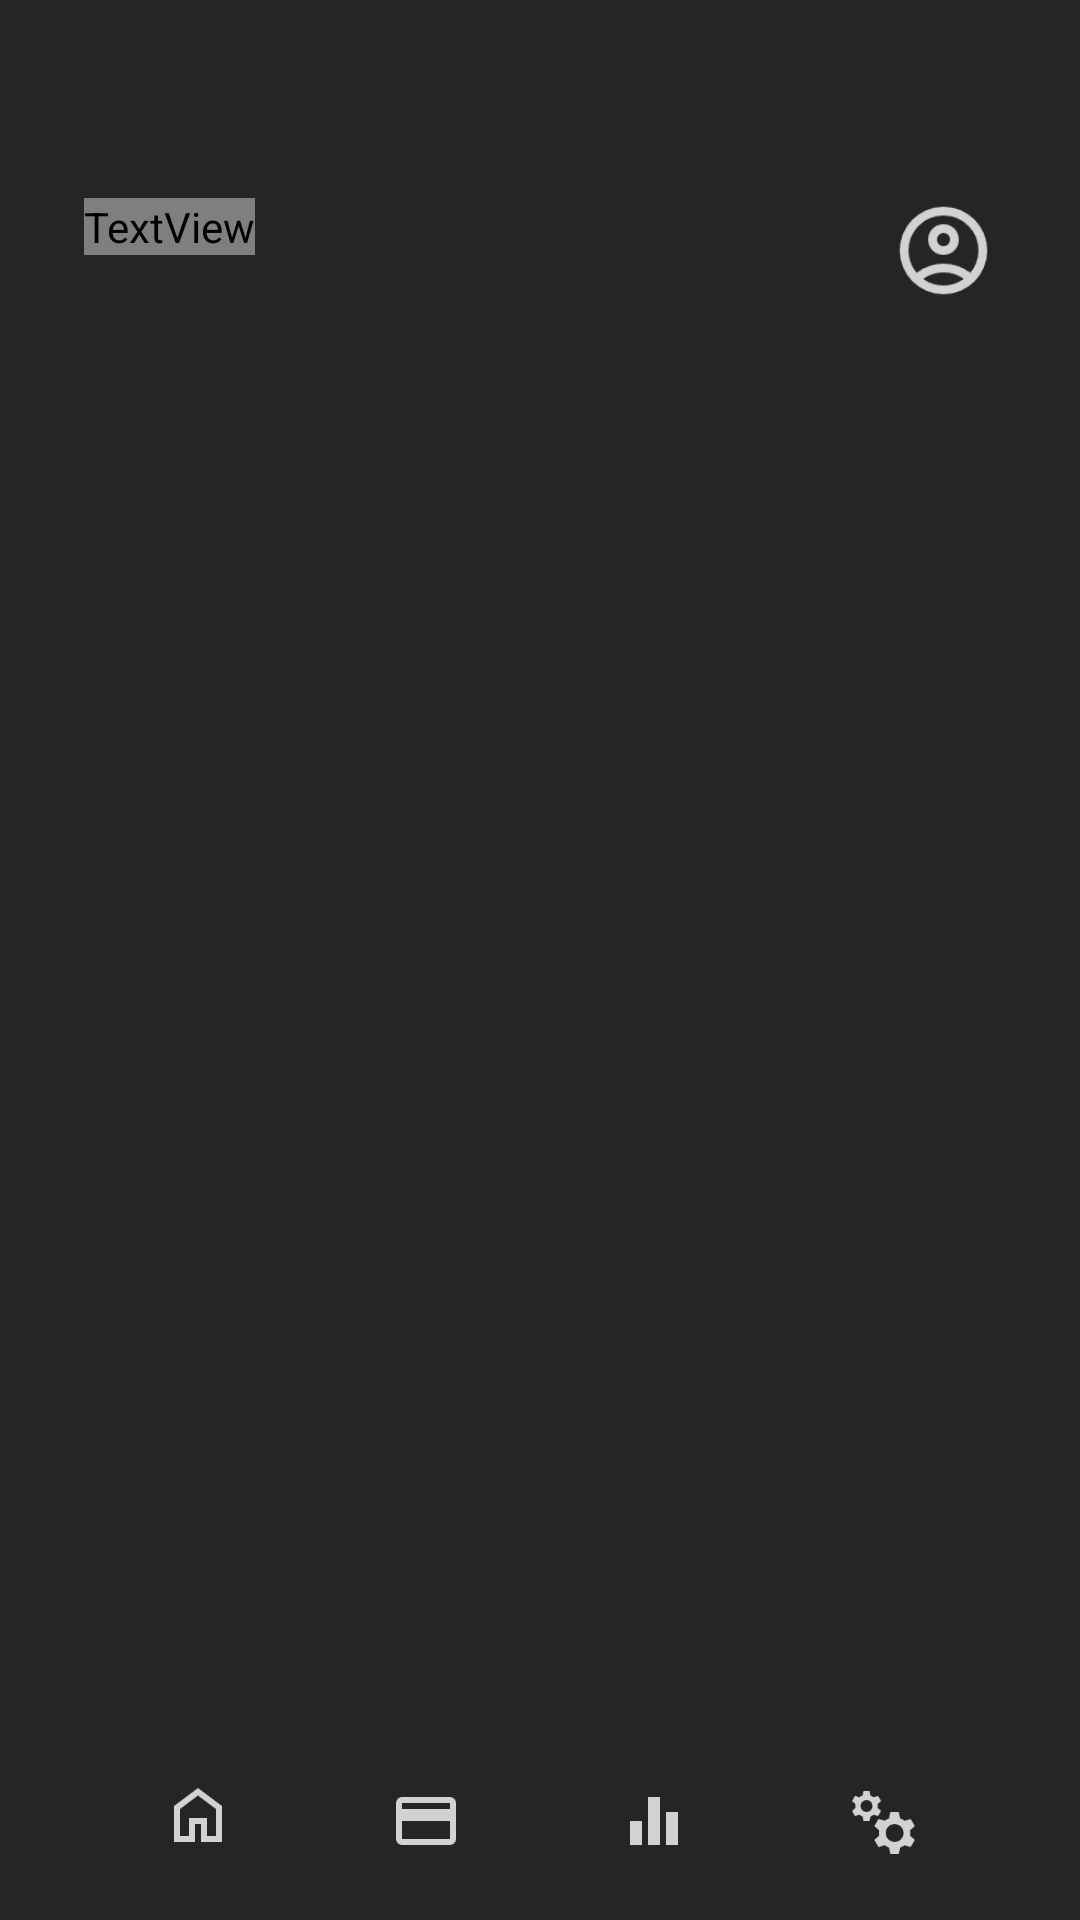

Screen size 1080*1920. Icon name, then its center in pixels as (x,y):
chart: (654,1821)
credit card: (426,1821)
home: (198,1815)
manufacturing: (883,1822)
user: (943,250)
